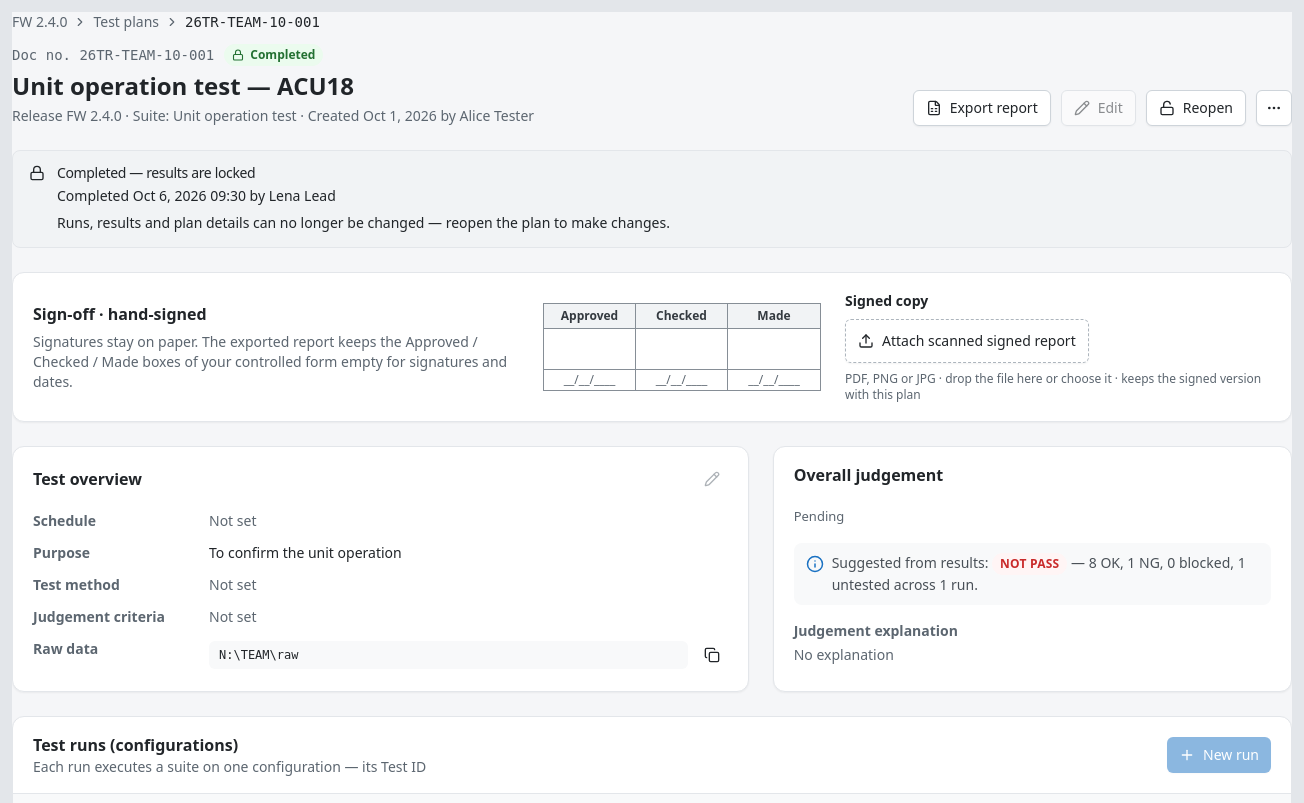
it: PlanDetailPage › lets a lead reopen a completed plan, which stays locked until then
Later steps or results of the test are not shown.
Expected: the text "Completed — results are locked" is shown, [57,163,255,182]
Expected: the text "Completed Oct 6, 2026 09:30 by Lena Lead" is shown, [57,185,336,208]
Click the button named "More plan actions" at (1274, 108), box [1256,90,1292,126]
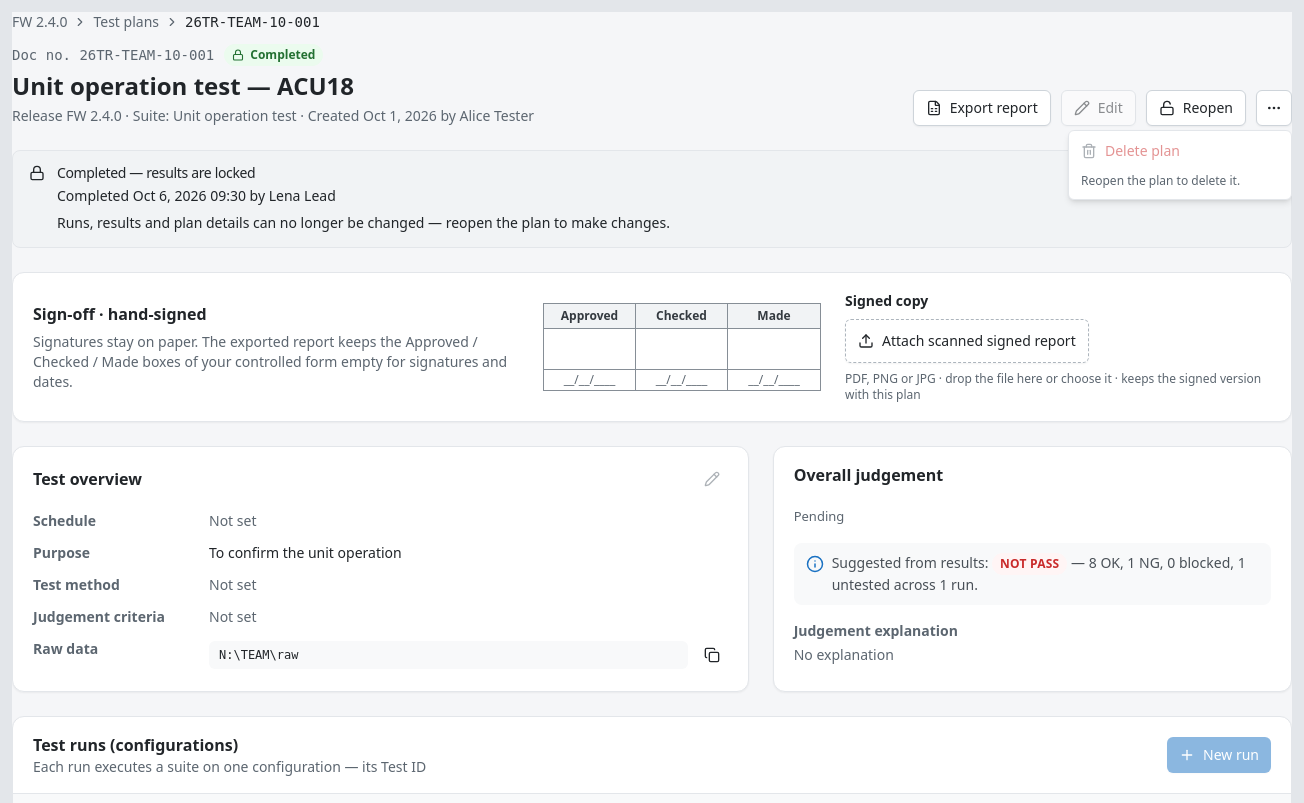
Result: the text "Reopen the plan to delete it." is shown at [1081,172,1240,189]
